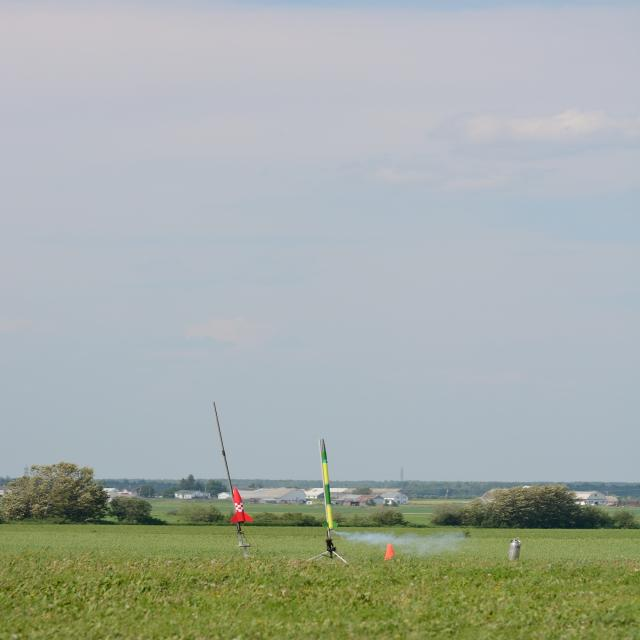Rocket: (321, 438, 339, 530), (230, 486, 254, 524)
